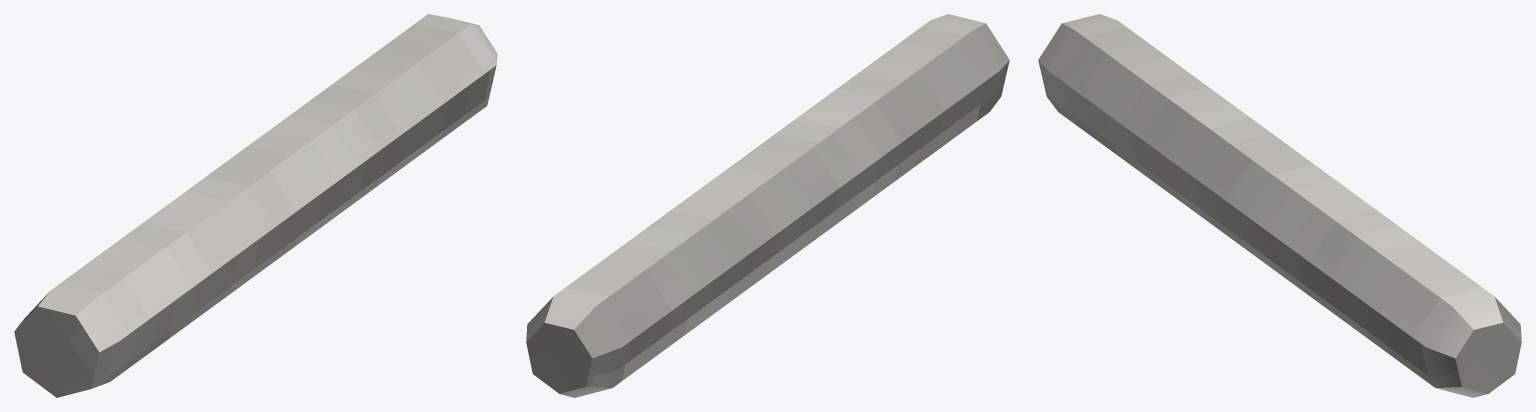
File: chalk_stick.glb
The picture shows the model from 3 angles, left to right: view 1: azimuth 30°, elevation 25°; view 2: azimuth 210°, elevation 25°; view 3: azimuth 270°, elevation 25°; orthographic projection.
Parts seen in each view (by area): view 1: ChalkStick; view 2: ChalkStick; view 3: ChalkStick.
Part boxes in pixels (x1,y1,x2,y2): ChalkStick: [14, 14, 497, 397]; ChalkStick: [526, 14, 1009, 397]; ChalkStick: [1038, 14, 1521, 397].
Bounding box in the file's own units: 0.0736 × 0.0105 × 0.0474.
Materials: 1 (1 with a texture image).
